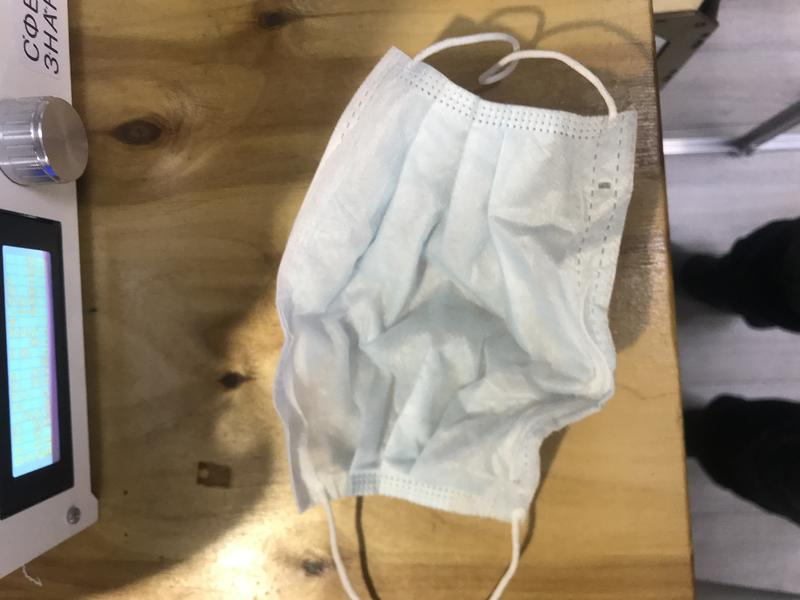medical_mask: (274, 30, 625, 600)
